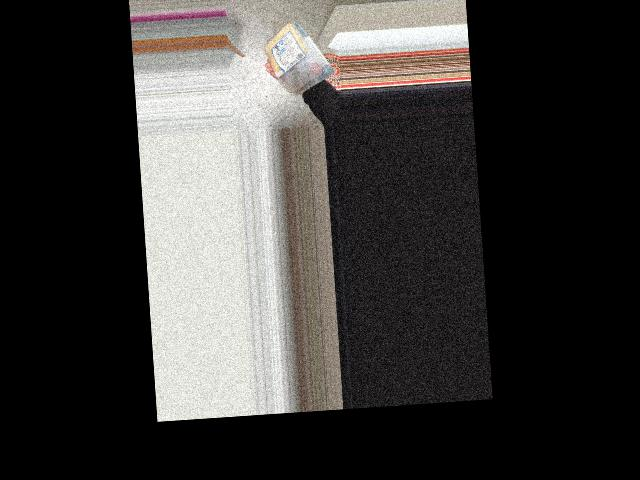cheese: (261, 16, 330, 96)
